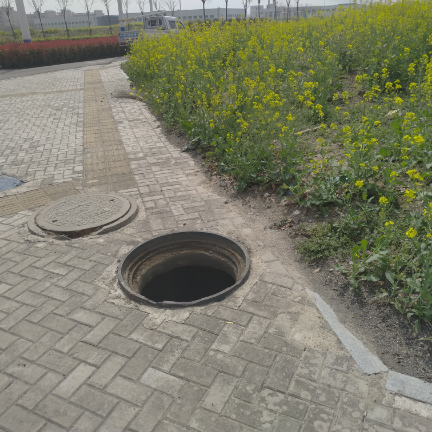well: (115, 229, 252, 307), (27, 192, 137, 239)
